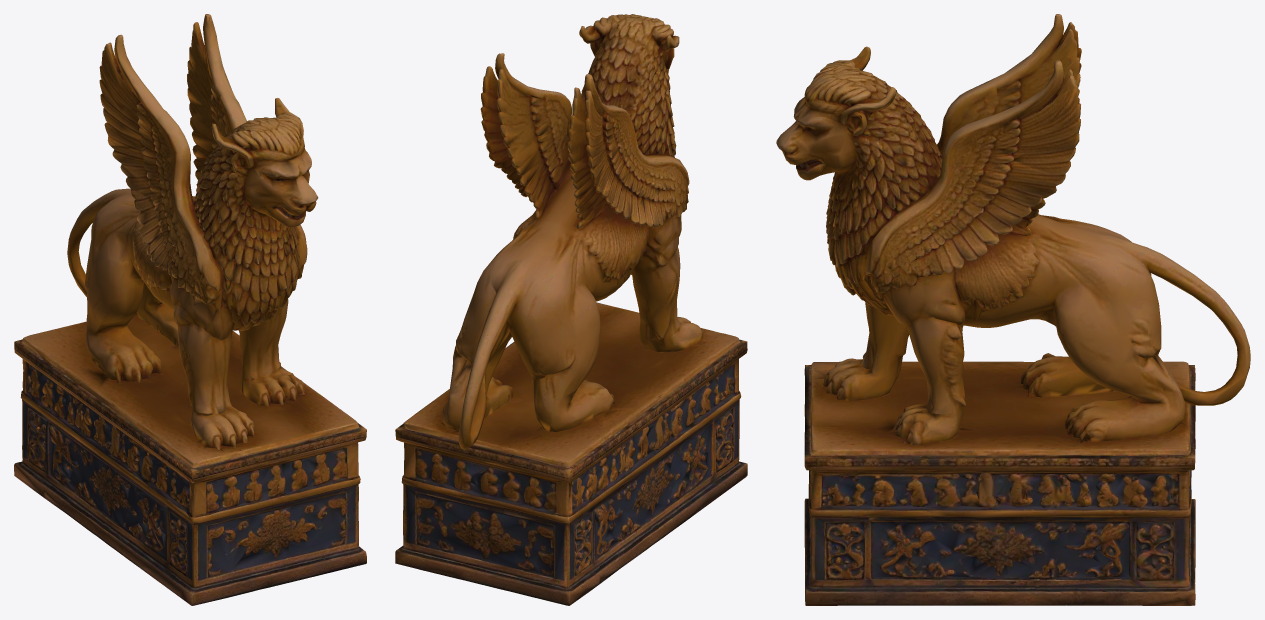
Rendered from lion_winged-lod1.glb.
3 views of the same model, side by side, from view 1: azimuth 30°, elevation 25°; view 2: azimuth 150°, elevation 25°; view 3: azimuth 270°, elevation 25° (orthographic). The views are drawn at different scales.
Visible parts, largest first — view 1: geometry_0; view 2: geometry_0; view 3: geometry_0.
Boxes of the visible parts, left/top/right/bottom form: geometry_0: left=14, top=14, right=366, bottom=605; geometry_0: left=395, top=14, right=747, bottom=605; geometry_0: left=776, top=14, right=1250, bottom=605.
Bounding box in the file's own units: 0.3848 × 0.9994 × 0.8238.
1 material, 1 textured.
